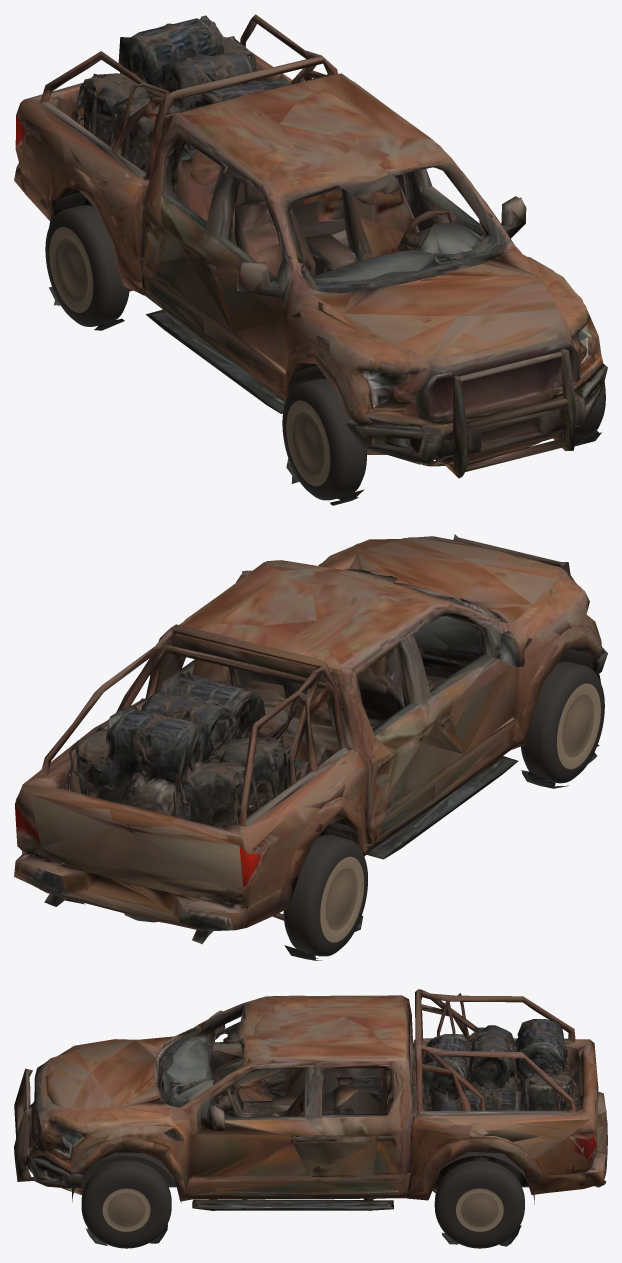
The model's file is VEH_M_BrownRustPickup_Drive.glb.
3 views of the same model, one above another, from view 1: azimuth 30°, elevation 25°; view 2: azimuth 150°, elevation 25°; view 3: azimuth 270°, elevation 25° (orthographic). The views are drawn at different scales.
Parts seen in each view (by area): view 1: VEH_M_BrownRustPickup, Wheel_FR, Wheel_RR; view 2: VEH_M_BrownRustPickup, Wheel_RR, Wheel_FR; view 3: VEH_M_BrownRustPickup, Wheel_FL, Wheel_RL, Liner_Wheel_FL, Liner_Wheel_RL.
Boxes of the visible parts, left/top/right/bottom form: VEH_M_BrownRustPickup: left=14, top=14, right=607, bottom=505; Wheel_FR: left=282, top=378, right=366, bottom=500; Wheel_RR: left=45, top=205, right=129, bottom=326; VEH_M_BrownRustPickup: left=14, top=534, right=607, bottom=960; Wheel_RR: left=283, top=835, right=367, bottom=956; Wheel_FR: left=521, top=661, right=604, bottom=783; VEH_M_BrownRustPickup: left=14, top=989, right=607, bottom=1246; Wheel_FL: left=81, top=1160, right=171, bottom=1248; Wheel_RL: left=434, top=1160, right=524, bottom=1248; Liner_Wheel_FL: left=72, top=1152, right=181, bottom=1202; Liner_Wheel_RL: left=425, top=1151, right=534, bottom=1204.
Bounding box in the file's own units: 2.22 × 1.83 × 5.3.
Materials: 4 (1 with a texture image).
